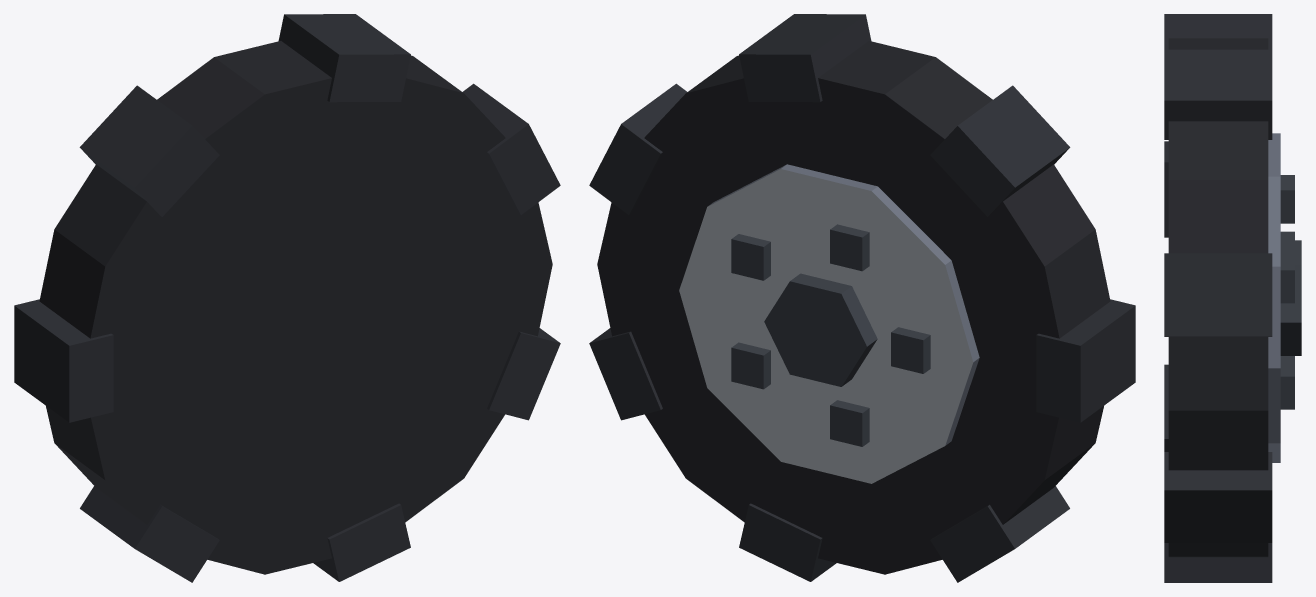
Rendered from FX_Scrap1_Tire.fbx.
3 views of the same model, side by side, from view 1: azimuth 30°, elevation 25°; view 2: azimuth 150°, elevation 25°; view 3: azimuth 270°, elevation 25° (orthographic). The views are drawn at different scales.
Parts seen in each view (by area): view 1: FX_Scrap1_Tire; view 2: FX_Scrap1_Tire; view 3: FX_Scrap1_Tire.
Boxes of the visible parts, <box> form: FX_Scrap1_Tire: <box>14,14,560,582</box>; FX_Scrap1_Tire: <box>589,14,1135,582</box>; FX_Scrap1_Tire: <box>1164,14,1301,582</box>.
Bounding box in the file's own units: 0.668 × 0.6852 × 0.165.
